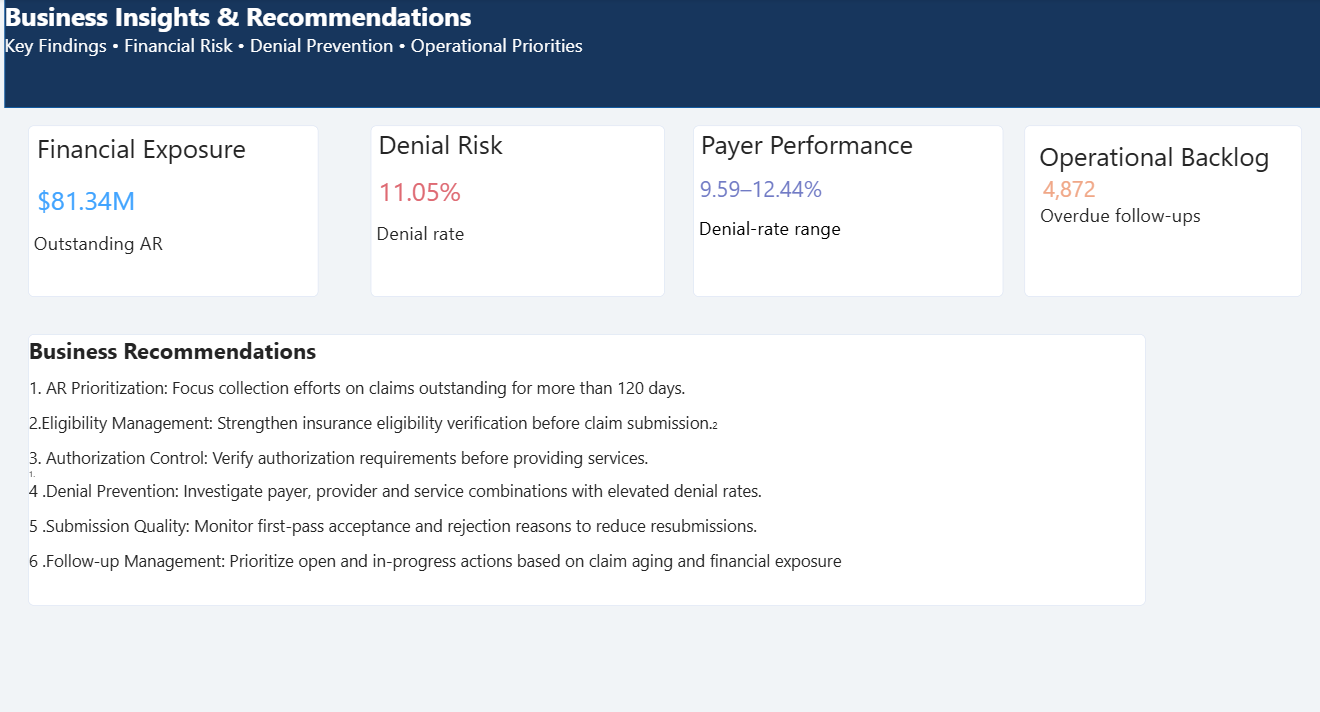

What the dashboard file says about the page in this screenshot:
{"tool":"powerbi","page":{"name":"Business Insights & Recommendations","canvas":[1920,1080],"ordinal":4},"visuals":[{"type":"textbox","box":[45.2,184.6,419.8,247.9],"z":0},{"type":"shape","box":[10.9,0,1909.2,159.3],"z":1000},{"type":"textbox","box":[10.9,0,1909.2,159.3],"z":2000},{"type":"textbox","box":[1008,184.6,448.8,247.9],"z":2001},{"type":"textbox","box":[1487.5,184.6,401.7,247.9],"z":2002},{"type":"textbox","box":[541.1,184.6,425.3,247.9],"z":2003},{"type":"textbox","box":[45.2,486.8,1617.8,392.7],"z":2004}]}

Visuals, with their boxes on the page's 1920x1080 design canvas (x1, y1, x2, y2). These are canvas units, not pixel positions in the 1320x712 screenshot, which may show the page scaled, cropped or inside an application window:
textbox: 45:185:465:432
shape: 11:0:1920:159
textbox: 11:0:1920:159
textbox: 1008:185:1457:432
textbox: 1488:185:1889:432
textbox: 541:185:966:432
textbox: 45:487:1663:880
